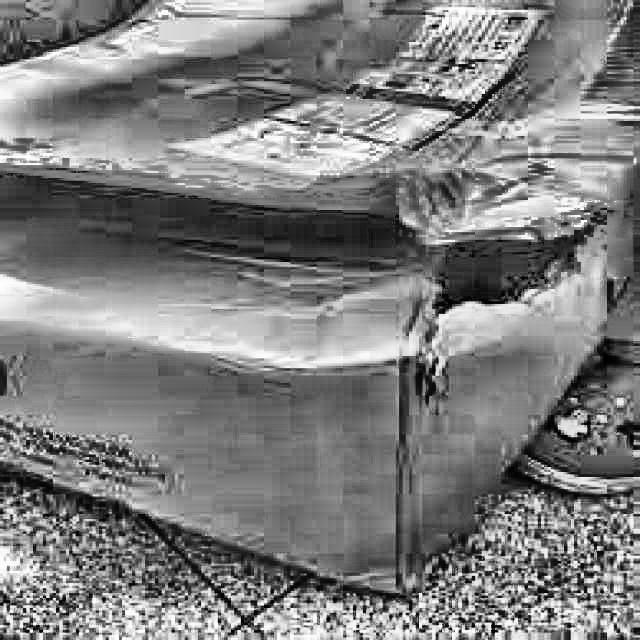box: (0, 0, 640, 602)
hole: (402, 181, 610, 365)
